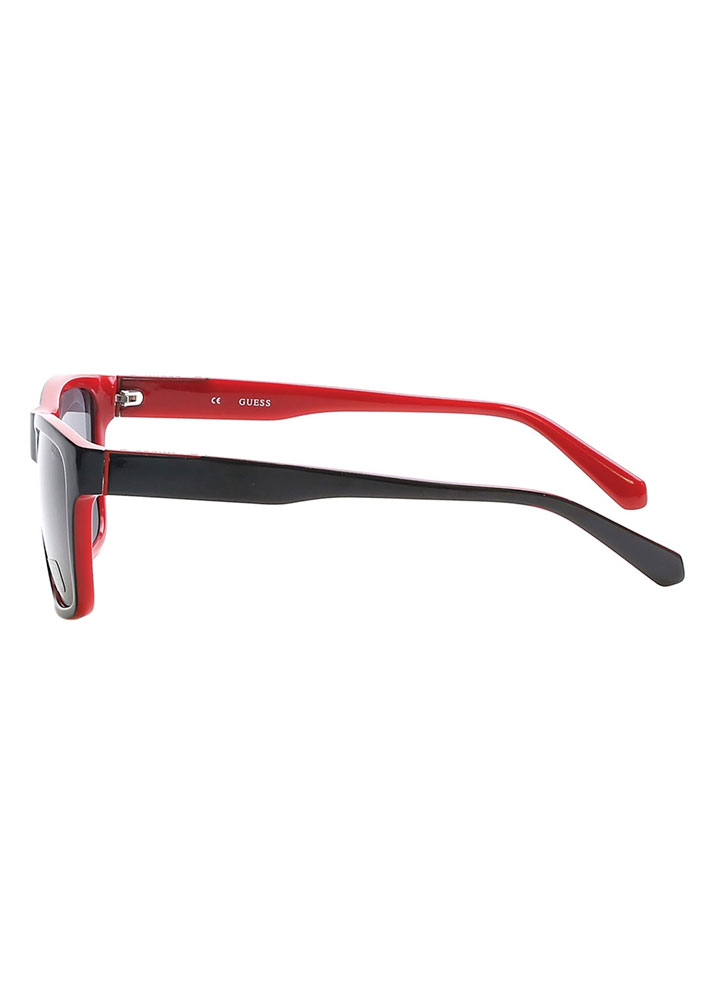Guess: (231, 391, 281, 411)
